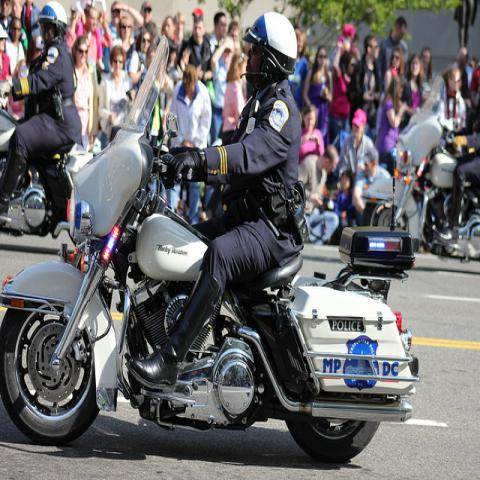motorcycle: (0, 31, 422, 465), (370, 114, 479, 263), (2, 142, 77, 235)
